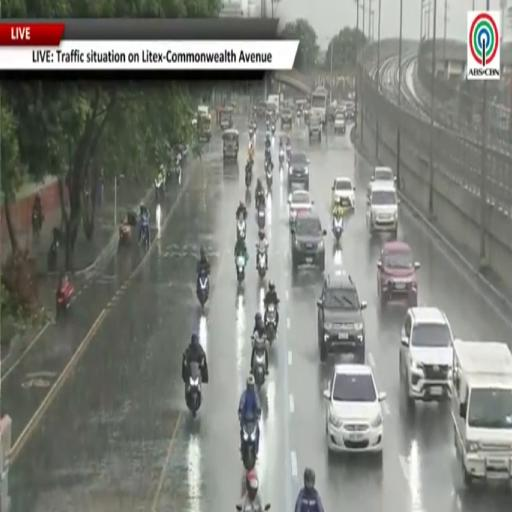car: (324, 364, 386, 456), (399, 308, 453, 407), (318, 271, 366, 363), (378, 240, 420, 307), (291, 211, 326, 274), (366, 182, 399, 237), (288, 190, 313, 225), (288, 152, 309, 190), (332, 178, 355, 209), (371, 167, 396, 183), (309, 115, 321, 142), (280, 108, 292, 129), (334, 112, 345, 134), (346, 101, 356, 122), (335, 104, 346, 118)
jeepney: (223, 128, 239, 159), (197, 106, 211, 140), (219, 107, 233, 130)
motorcycle: (186, 361, 202, 415), (251, 335, 266, 390), (242, 422, 258, 470), (56, 280, 74, 316), (265, 303, 276, 345), (197, 270, 209, 308), (47, 240, 58, 271), (257, 245, 267, 279), (236, 254, 246, 283), (140, 219, 149, 250), (333, 218, 344, 243), (32, 211, 42, 238), (155, 176, 164, 203), (257, 202, 265, 229), (255, 190, 265, 210), (237, 217, 246, 239), (265, 164, 272, 188), (245, 167, 252, 187), (176, 165, 182, 186), (279, 152, 284, 172), (286, 147, 291, 163), (265, 146, 270, 160), (263, 504, 270, 511), (271, 123, 275, 135)
truck: (452, 340, 511, 485), (310, 87, 328, 125), (267, 94, 279, 115)
